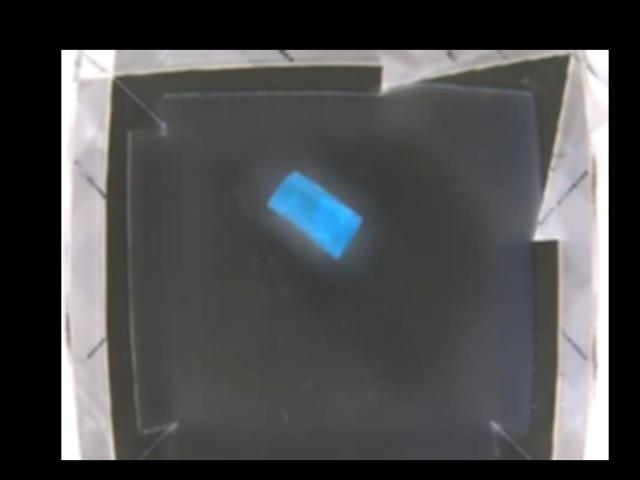Carrot: (265, 167, 362, 258)
